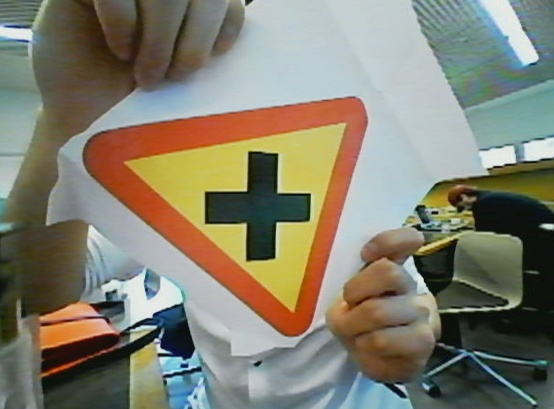junction: (58, 90, 362, 354)
